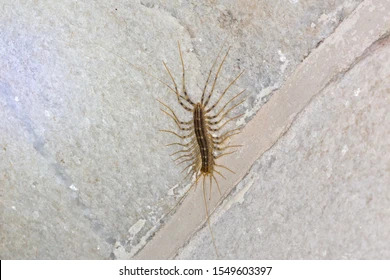centipede: (141, 41, 266, 252)
